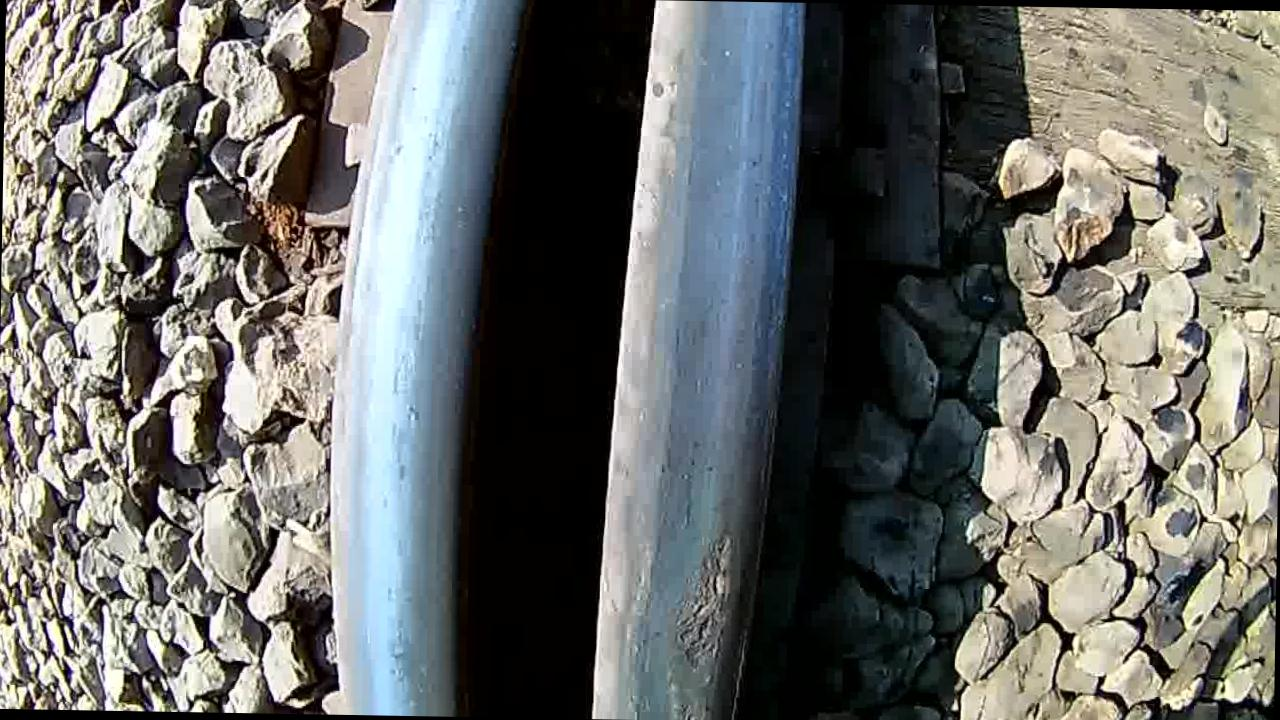crack: (631, 317, 781, 720)
